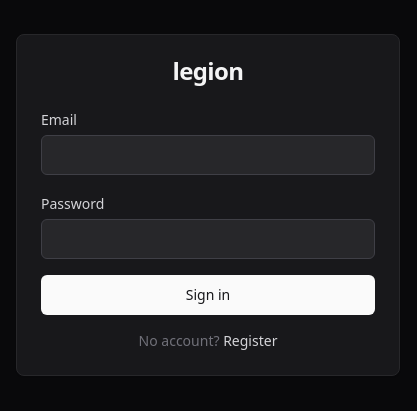
Test: Login – interactions › clears a previous error when form is resubmitted
The width and height of the screenshot is (417, 411).
Type "a@b.com" into the field labelled "Email" at (208, 155), box [41,135,375,175]
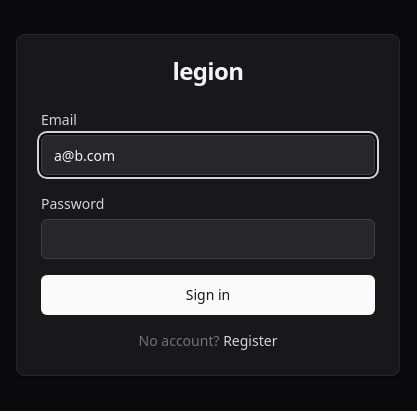
Type "wrong" into the password field labelled "Password" at (208, 239), box [41,219,375,259]
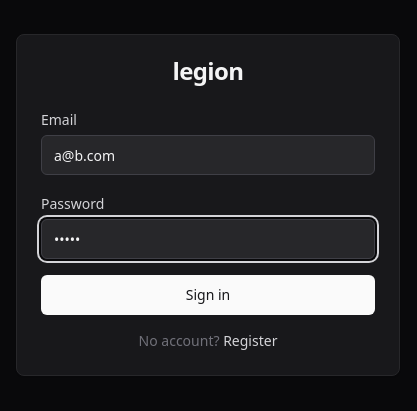
Submit the form "Email Password Sign in No account? Register", box [41,107,375,351]
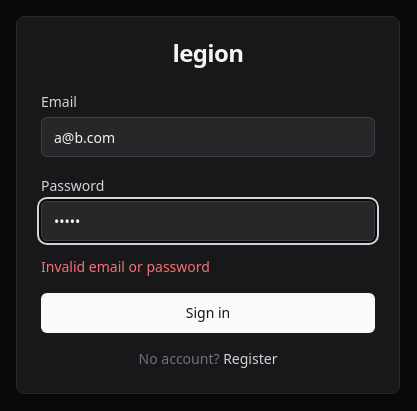
Now the text "Invalid email or password" is shown, box [41,257,210,276]
Submit the form "Sign in", box [41,89,375,369]
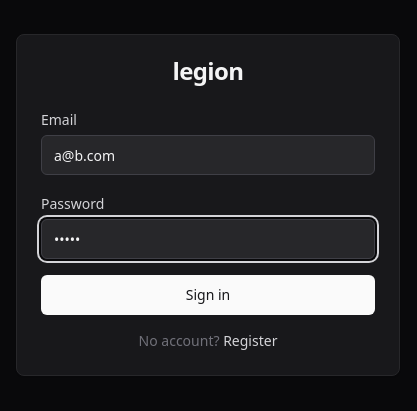
Now the text "Invalid email or password" is gone
